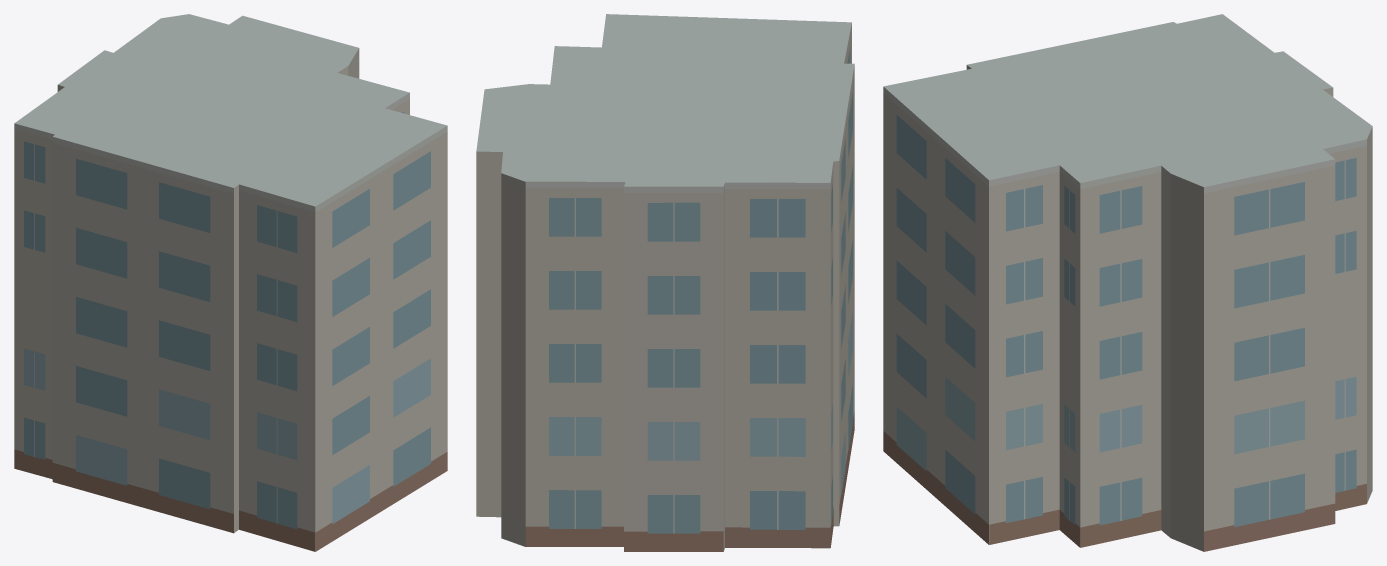
File: survey-upis-32671200.glb
3 views of the same model, side by side, from view 1: azimuth 30°, elevation 25°; view 2: azimuth 150°, elevation 25°; view 3: azimuth 270°, elevation 25° (orthographic). The views are drawn at different scales.
Parts seen in each view (by area): view 1: survey-upis-32671200.tmp; view 2: survey-upis-32671200.tmp; view 3: survey-upis-32671200.tmp.
Boxes of the visible parts, x1,y1,x2,y2 form: survey-upis-32671200.tmp: [14, 14, 447, 551]; survey-upis-32671200.tmp: [476, 14, 854, 551]; survey-upis-32671200.tmp: [883, 14, 1372, 551].
Size of the model in its own units: 14.52 by 14.25 by 17.34.
